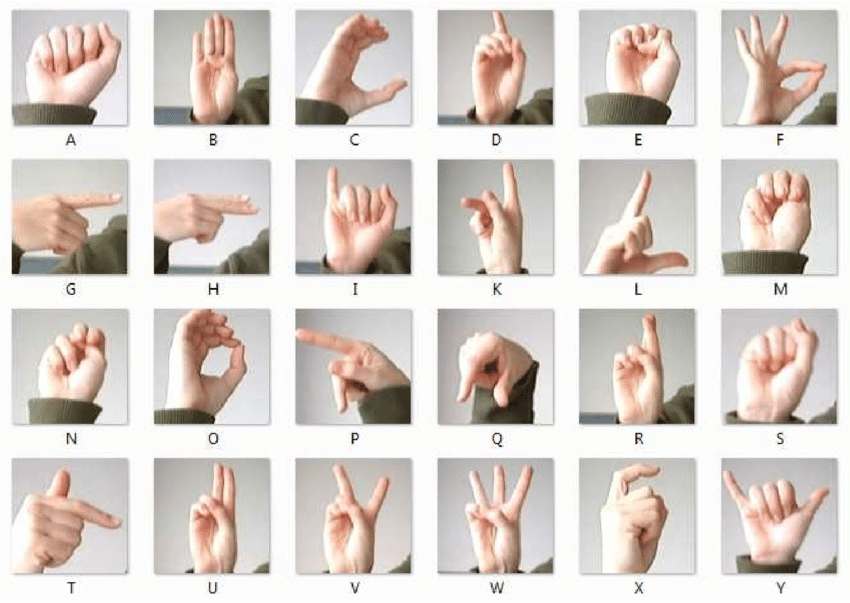A: (7, 8, 134, 148)
B: (140, 1, 278, 151)
C: (287, 2, 428, 154)
D: (429, 1, 567, 150)
E: (568, 4, 708, 146)
F: (715, 1, 843, 149)
G: (7, 149, 139, 301)
H: (139, 155, 283, 298)
I: (287, 155, 424, 300)
K: (429, 155, 570, 298)
L: (574, 151, 709, 301)
M: (715, 151, 847, 301)
N: (3, 302, 139, 442)
O: (143, 304, 280, 445)
P: (286, 299, 427, 452)
Q: (430, 301, 566, 451)
R: (571, 304, 709, 450)
S: (711, 305, 846, 450)
T: (3, 451, 141, 594)
U: (142, 452, 283, 596)
V: (286, 452, 423, 600)
W: (428, 454, 567, 598)
X: (572, 452, 709, 599)
Y: (715, 453, 846, 597)
